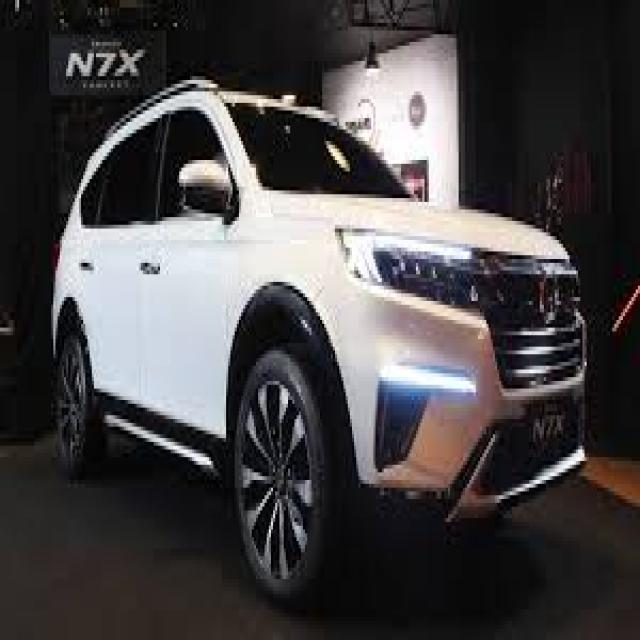car: (48, 61, 592, 613)
